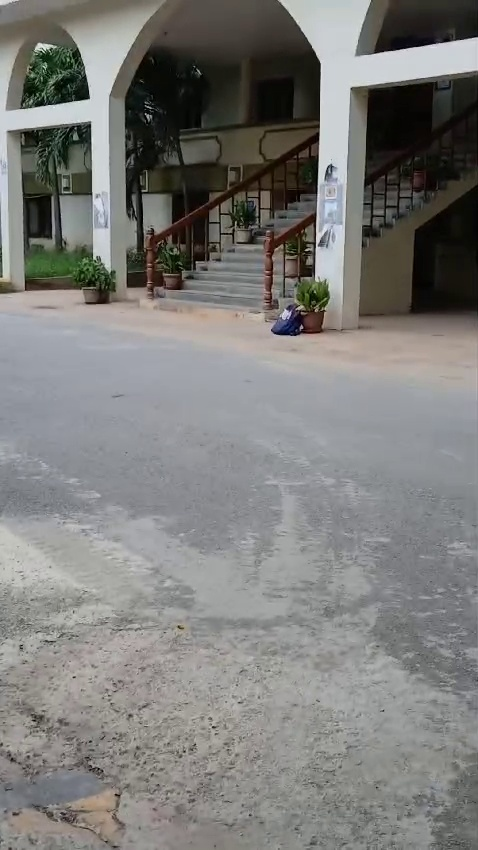bag: (271, 294, 304, 345)
